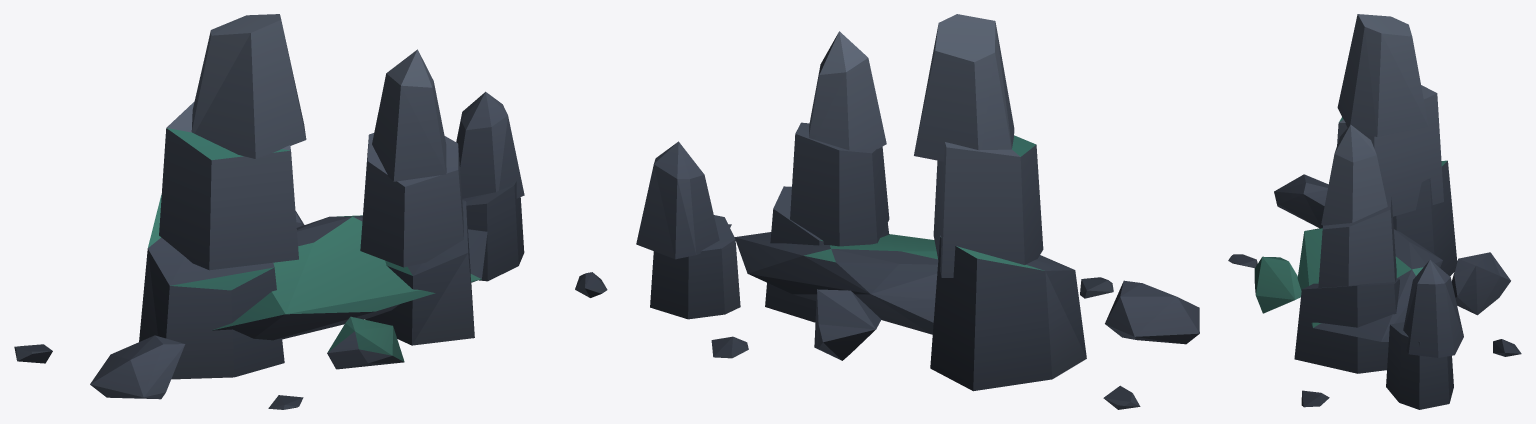
The model's file is rock_c.glb.
The picture shows the model from 3 angles, left to right: view 1: azimuth 30°, elevation 25°; view 2: azimuth 150°, elevation 25°; view 3: azimuth 270°, elevation 25°; orthographic projection. The views are drawn at different scales.
Visible parts, largest first — view 1: rock_c; view 2: rock_c; view 3: rock_c.
Boxes of the visible parts, <box> form: rock_c: <box>14,14,607,409</box>; rock_c: <box>636,14,1199,409</box>; rock_c: <box>1228,14,1521,409</box>.
Bounding box in the file's own units: 4.85 × 2.9 × 2.85.
1 material, 1 textured.
